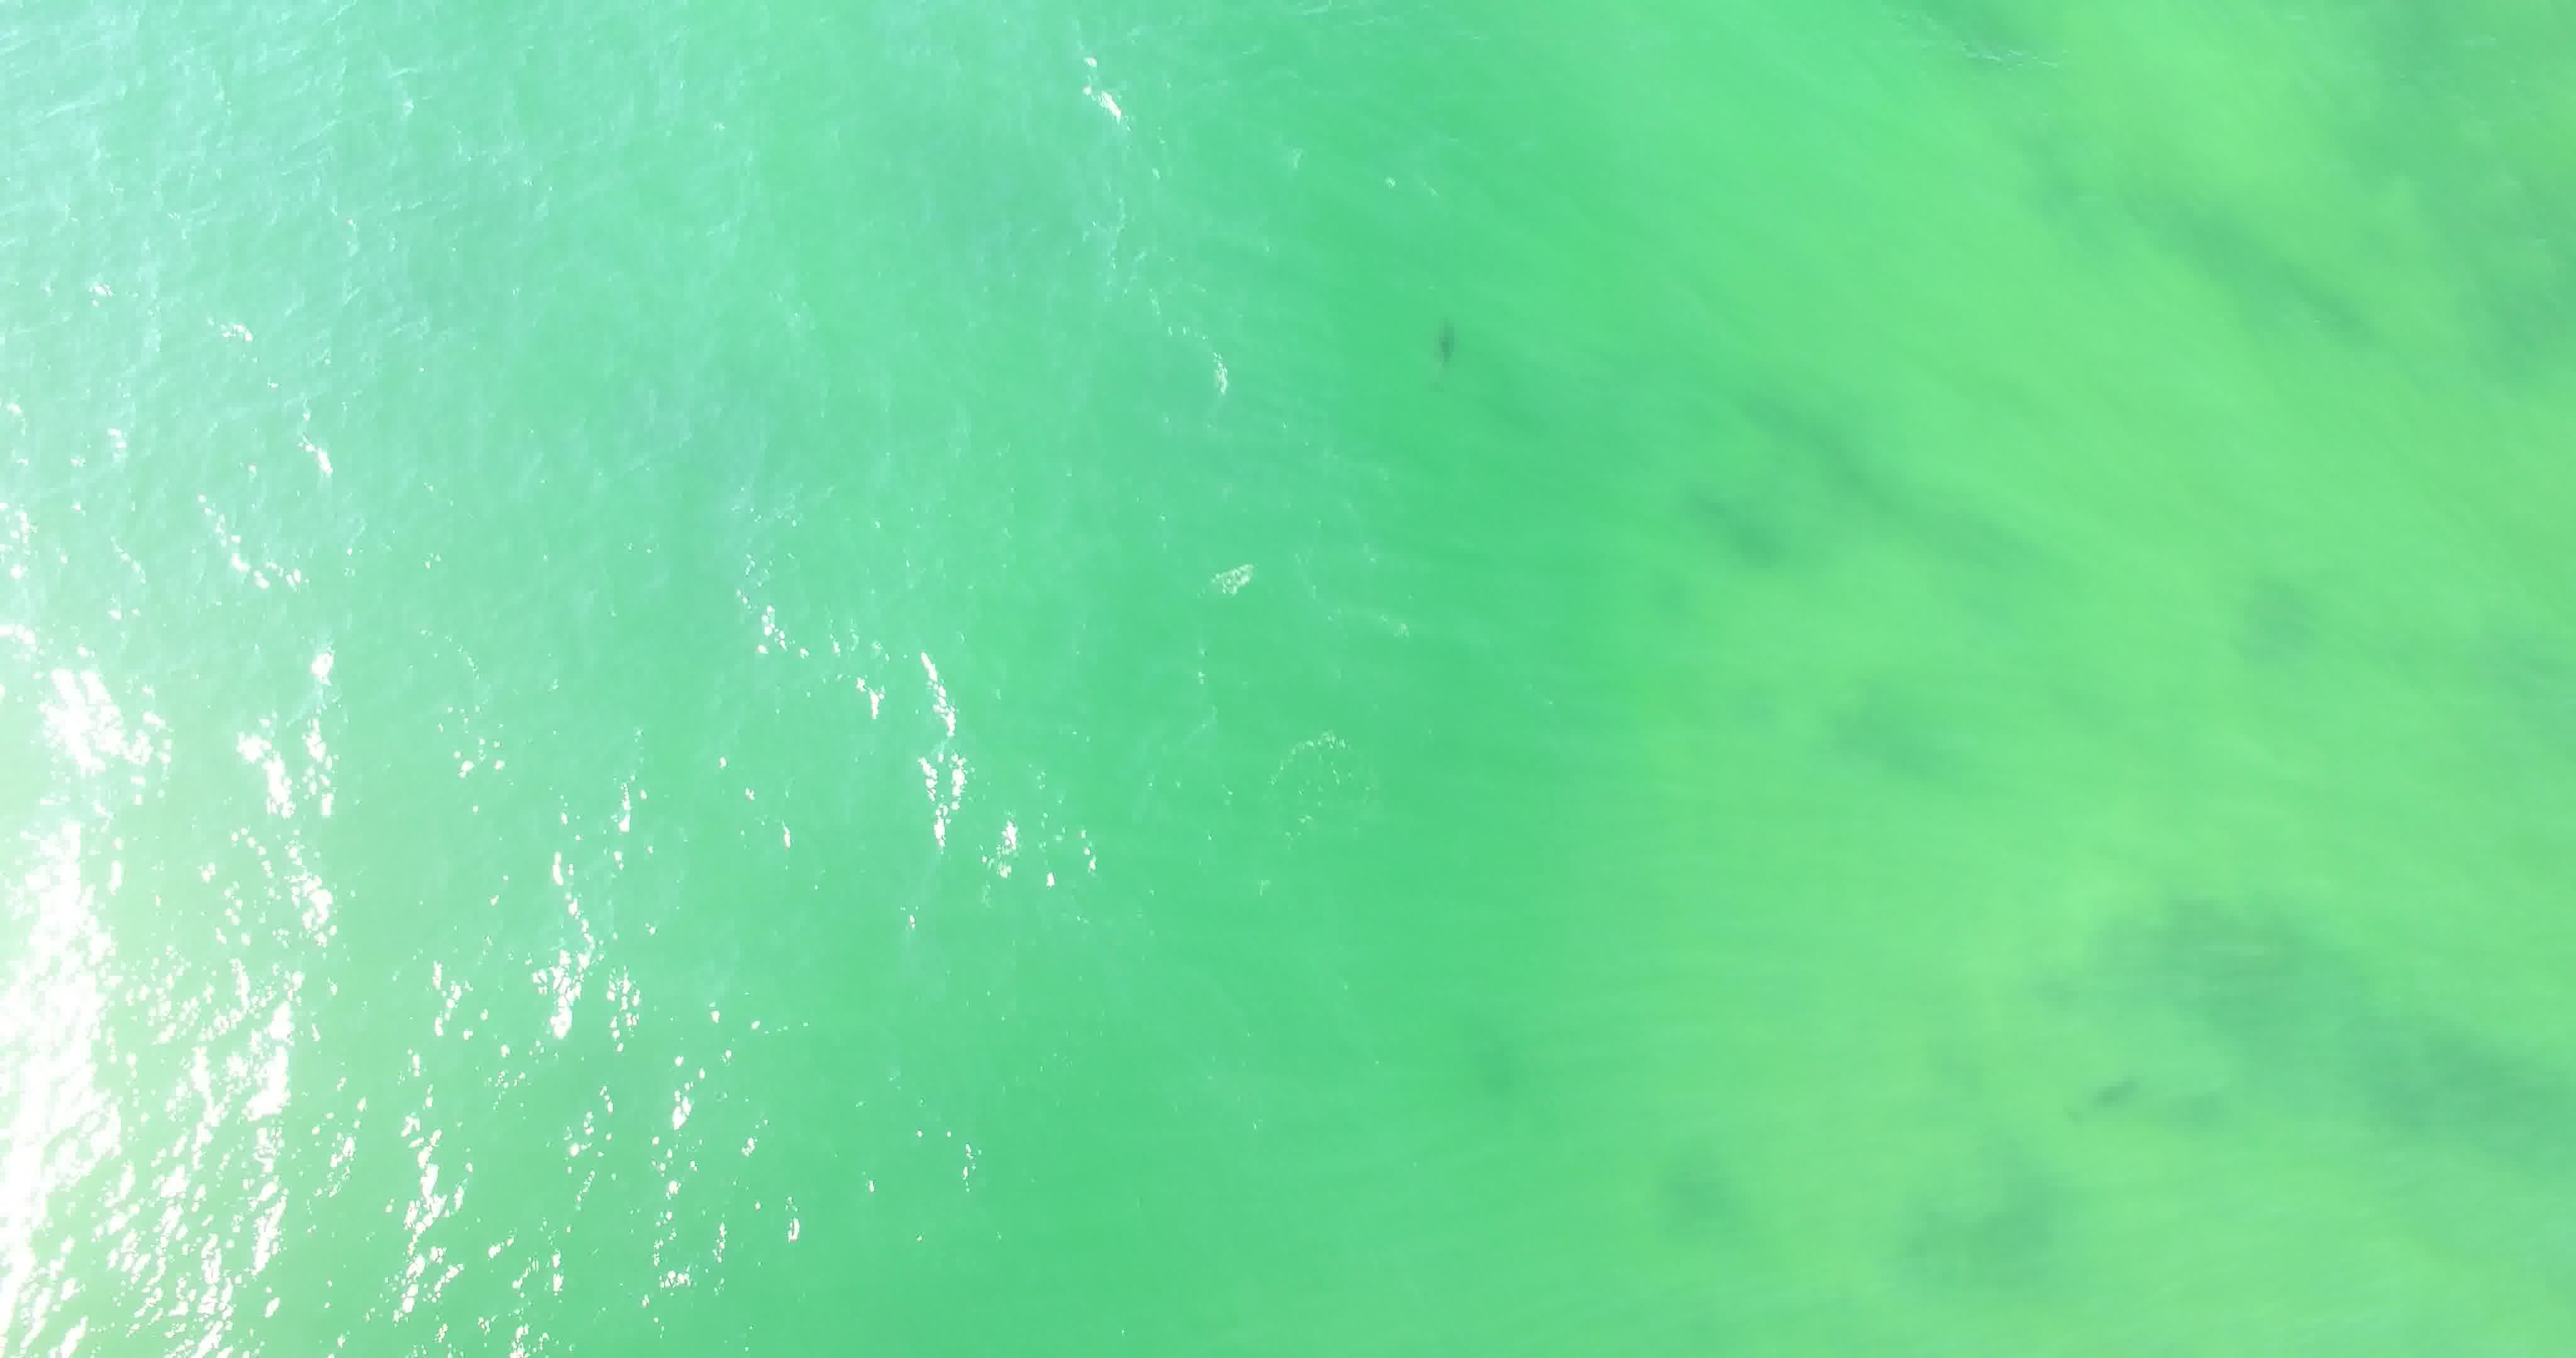dolphin: (1387, 293, 1487, 388)
